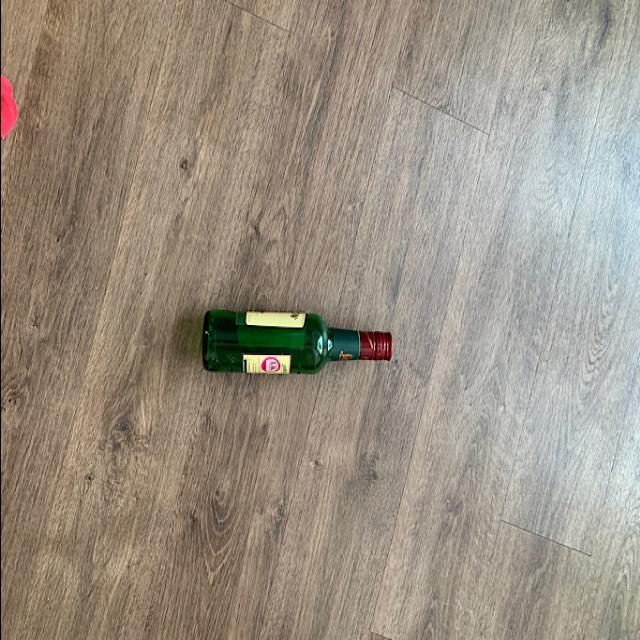litter: (202, 304, 398, 382)
